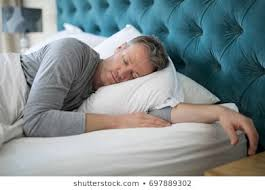sleeping: (1, 34, 261, 157)
